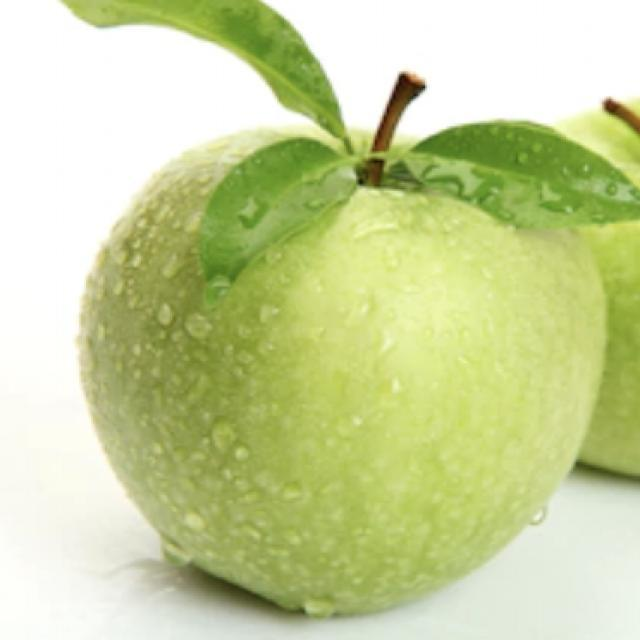Fresh Apple: (97, 135, 585, 603)
